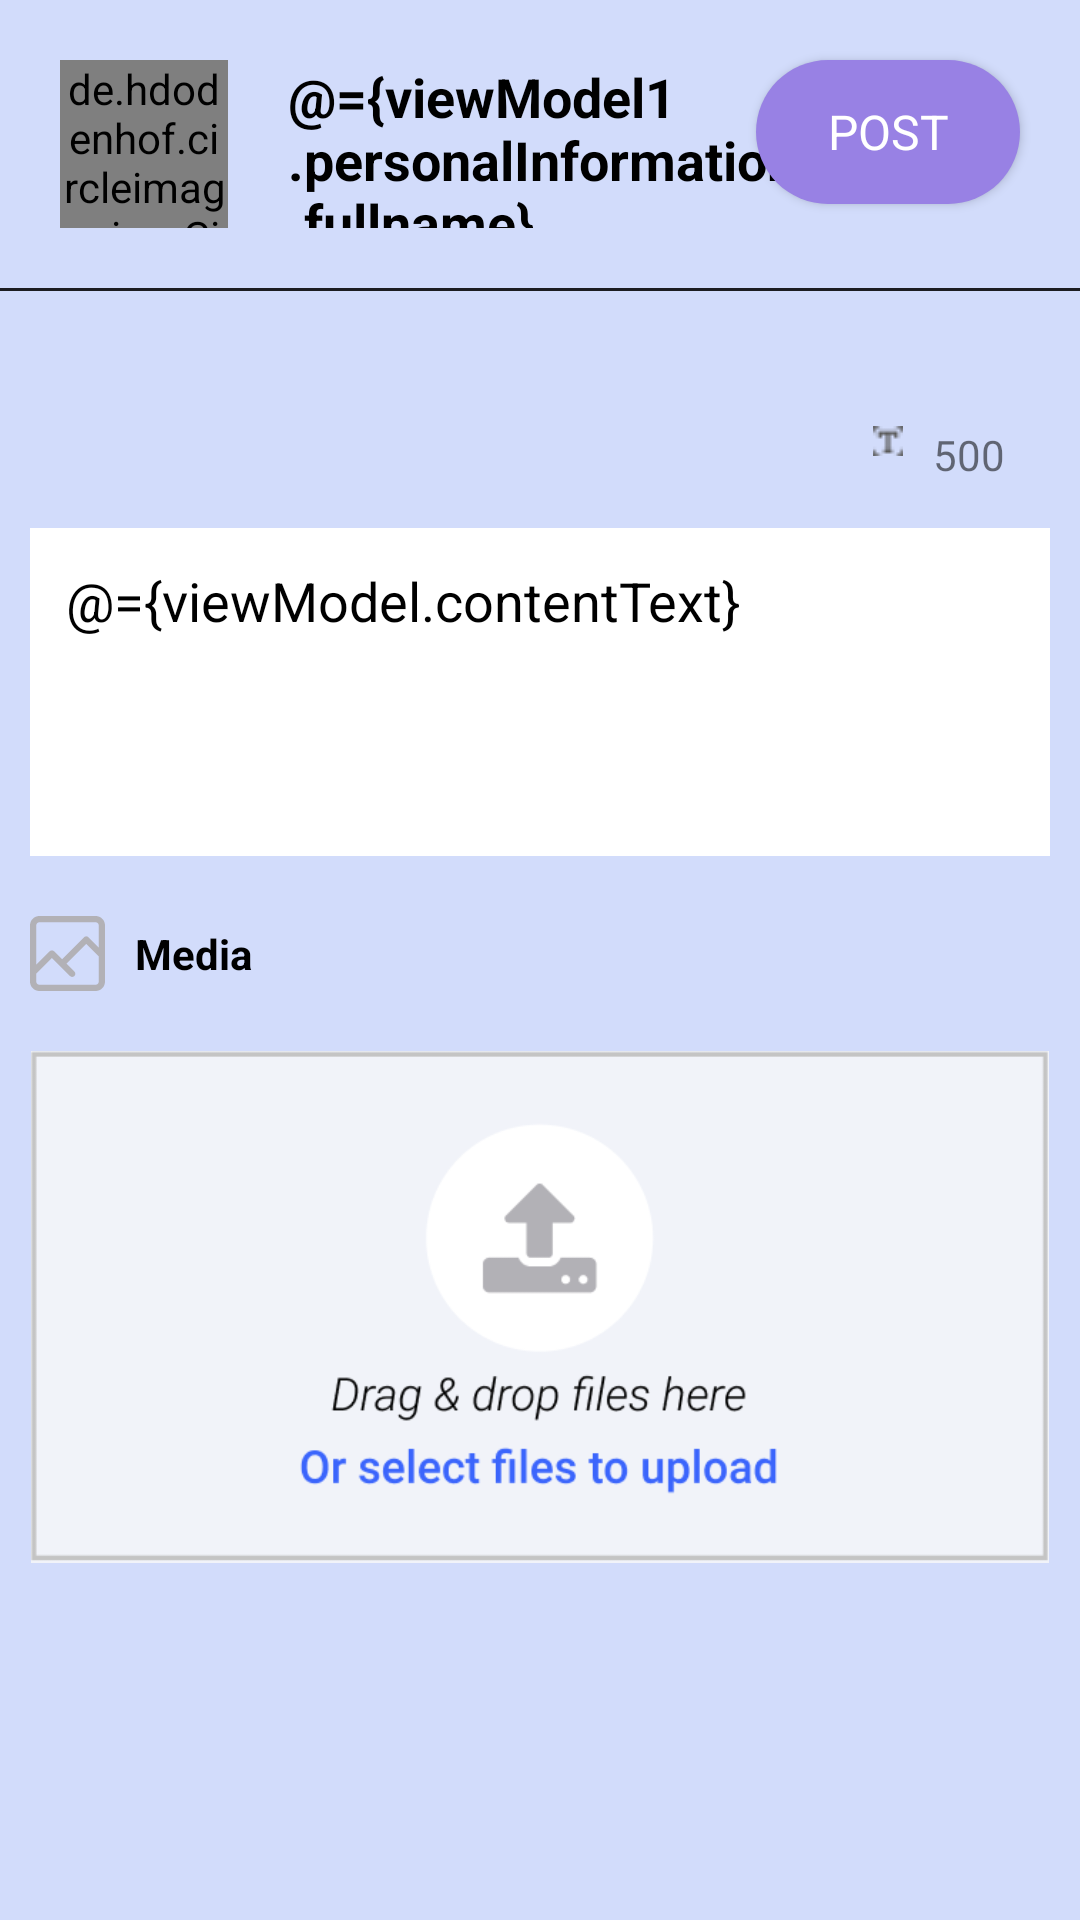

Where to tap for icons on this 1080×1920 app screen, as point (x, y):
gallery symbol: point (67, 953)
text symbol: point (888, 441)
